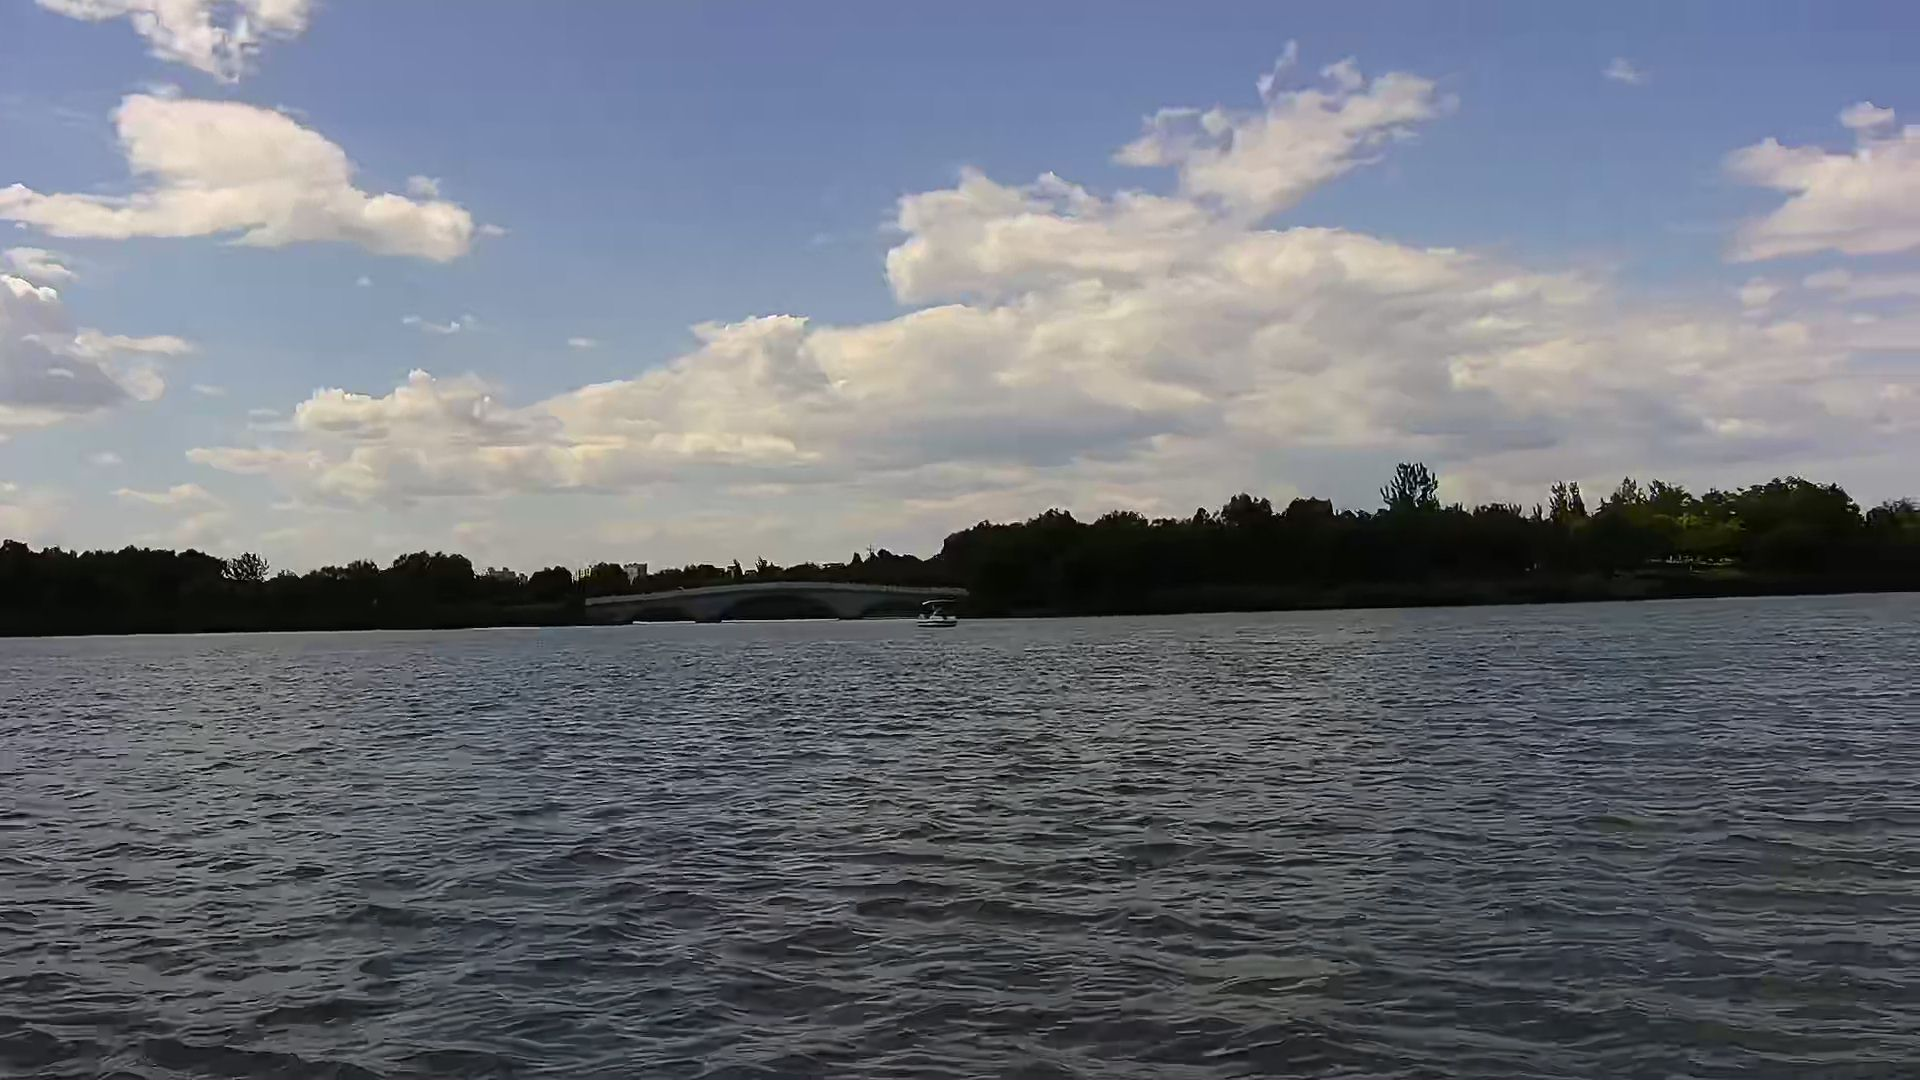boat: (913, 599, 957, 629)
bridge: (582, 580, 968, 622)
